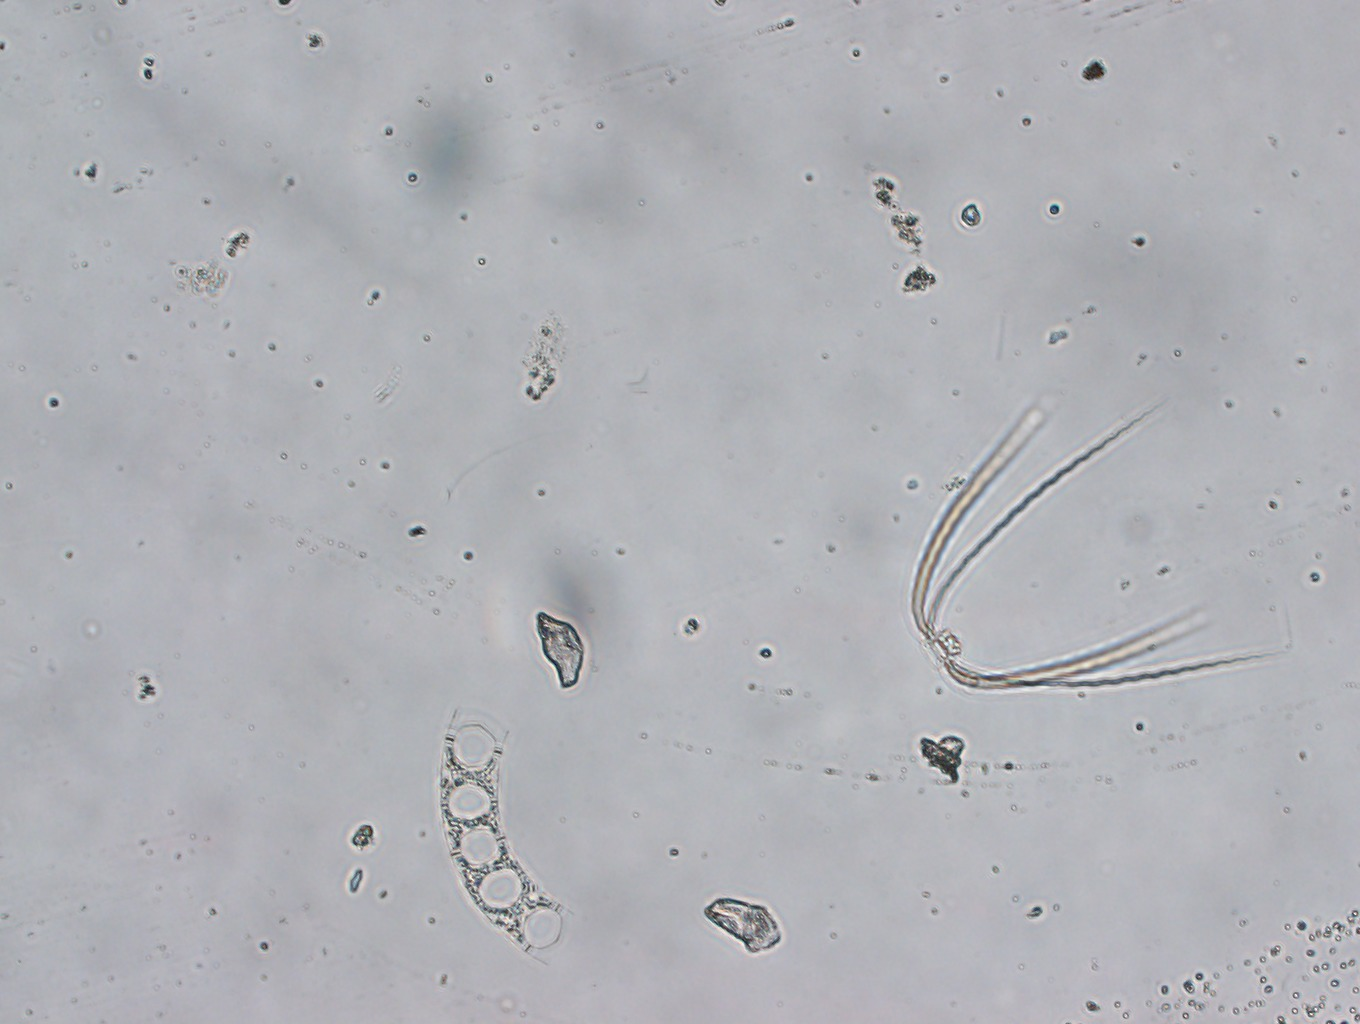chaetoceros: (908, 398, 1287, 695)
eucampia: (436, 707, 577, 966)
